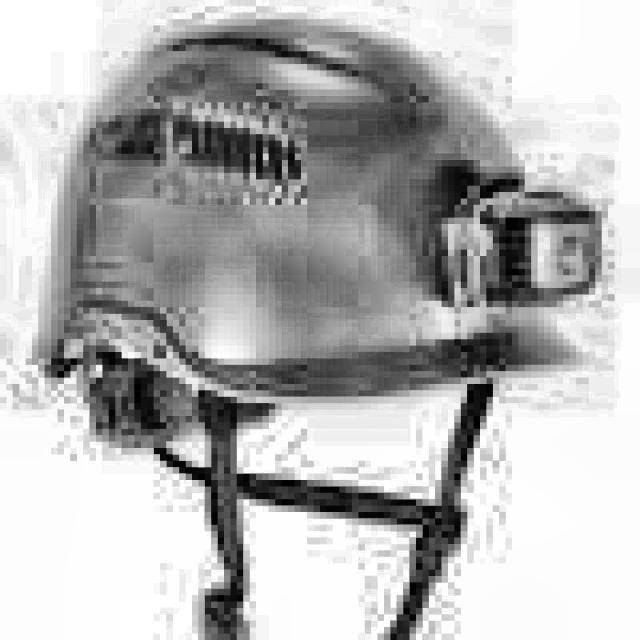Helmet: (29, 23, 591, 640)
